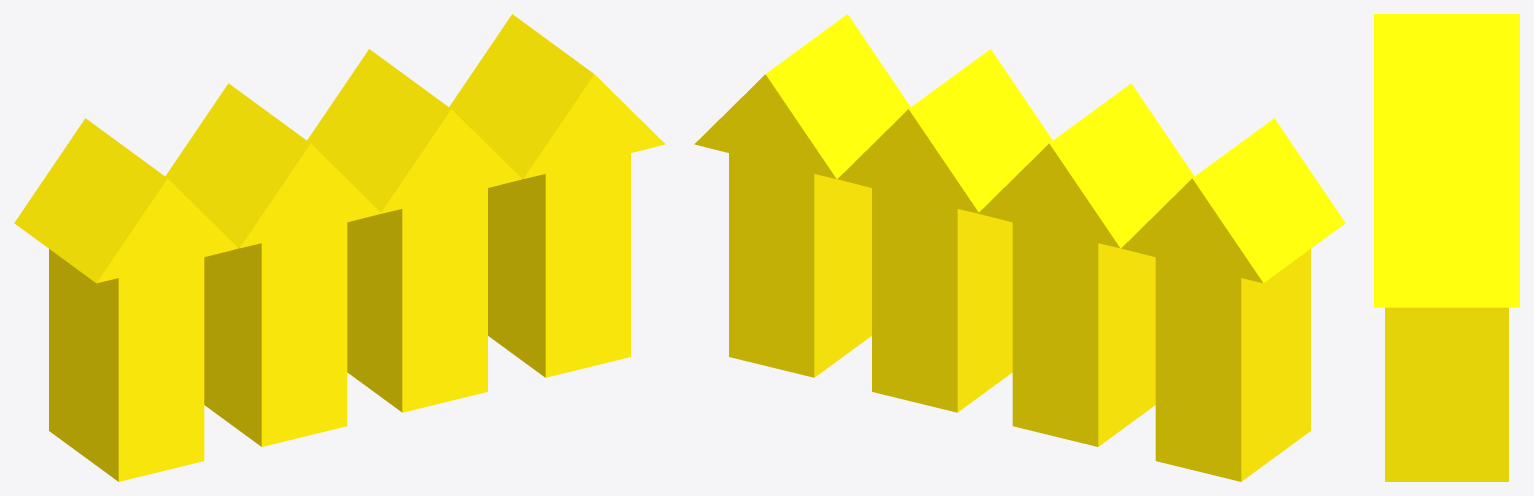
Rendered from gravity_reverse.glb.
3 renders of one model, left to right at view 1: azimuth 30°, elevation 25°; view 2: azimuth 150°, elevation 25°; view 3: azimuth 270°, elevation 25°, orthographic. The views are drawn at different scales.
Visible parts, largest first — view 1: shrinker.003; view 2: shrinker.003; view 3: shrinker.003.
Part boxes in pixels (x1=…): shrinker.003: x1=14, y1=14, x2=665, y2=481; shrinker.003: x1=694, y1=14, x2=1345, y2=481; shrinker.003: x1=1374, y1=14, x2=1519, y2=481.
Size of the model in its own units: 2 by 0.9996 by 0.5.
